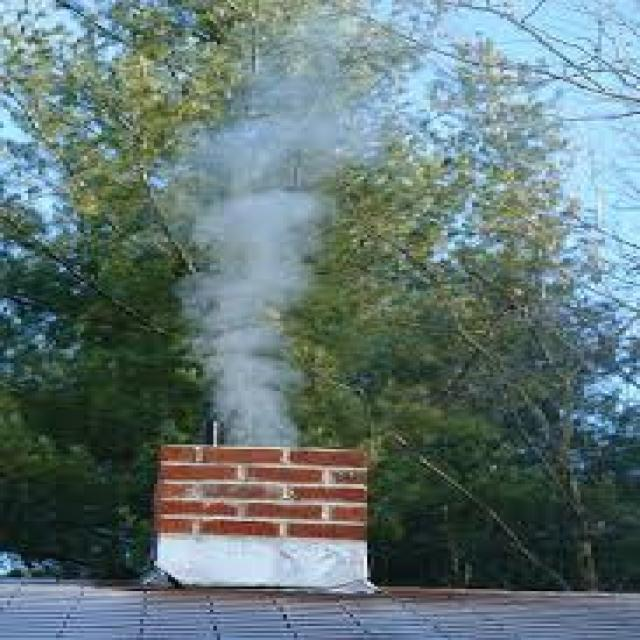Smoke: (171, 14, 384, 449)
